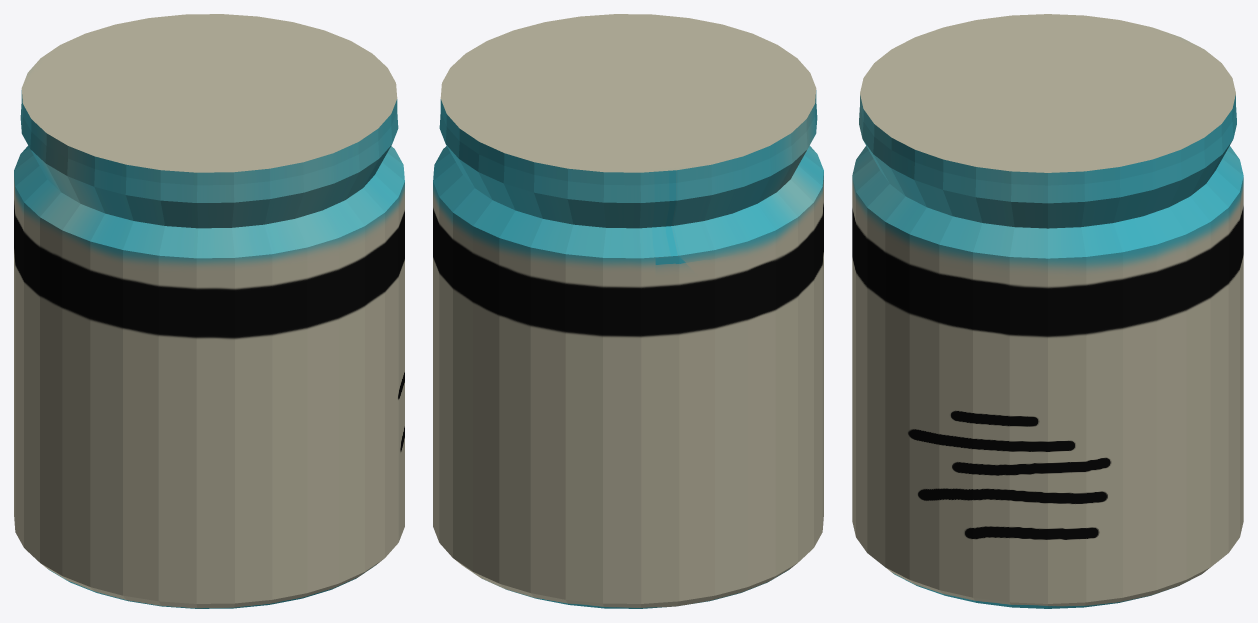
The model's file is AntibioticOintment.fbx.
The picture shows the model from 3 angles, left to right: view 1: azimuth 30°, elevation 25°; view 2: azimuth 150°, elevation 25°; view 3: azimuth 270°, elevation 25°; orthographic projection.
Visible parts, largest first — view 1: Cylinder; view 2: Cylinder; view 3: Cylinder.
Boxes of the visible parts, <box> form: Cylinder: <box>14,14,404,608</box>; Cylinder: <box>433,14,823,608</box>; Cylinder: <box>852,14,1243,608</box>.
Size of the model in its own units: 0.2 by 0.2464 by 0.2.
